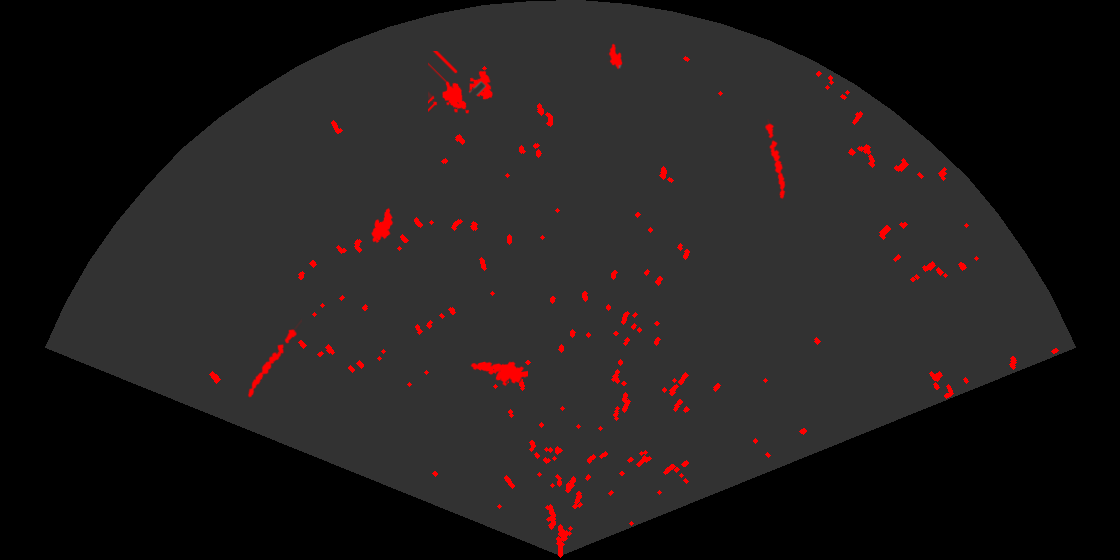AUV: (370, 206, 395, 245), (607, 42, 624, 71)
cage: (428, 51, 495, 115)
chain: (246, 318, 302, 399), (763, 119, 787, 201)
frogman: (468, 360, 528, 388)
